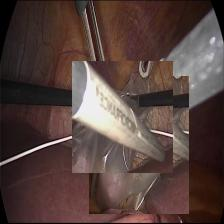Grasper: (72, 62, 173, 173), (78, 1, 109, 81)
Specimen Bag: (89, 76, 189, 214)
